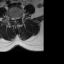CCS_normal: (14, 15, 16, 23)
LFS_normal: (18, 14, 20, 20)
LLS_normal: (16, 15, 18, 21)
RFS_normal: (10, 14, 12, 21)
RLS_normal: (12, 15, 14, 22)
